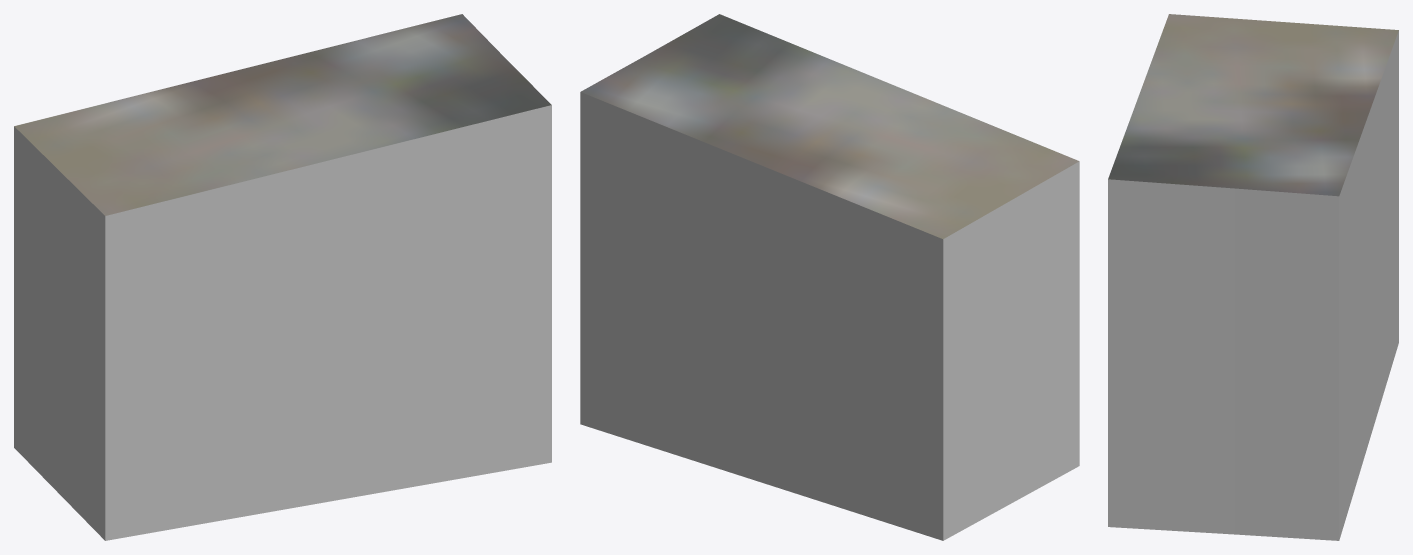
The model's file is DEBW_0010007Tx5u.gltf.
3 renders of one model, left to right at view 1: azimuth 30°, elevation 25°; view 2: azimuth 150°, elevation 25°; view 3: azimuth 270°, elevation 25°, orthographic. The views are drawn at different scales.
Parts seen in each view (by area): view 1: Z_UP; view 2: Z_UP; view 3: Z_UP.
Part boxes in pixels (bbox=[...]): Z_UP: bbox=[14, 14, 551, 540]; Z_UP: bbox=[580, 14, 1079, 540]; Z_UP: bbox=[1108, 14, 1398, 540].
Bounding box in the file's own units: 3.93 × 3.02 × 2.29.
Materials: 2 (1 with a texture image).
